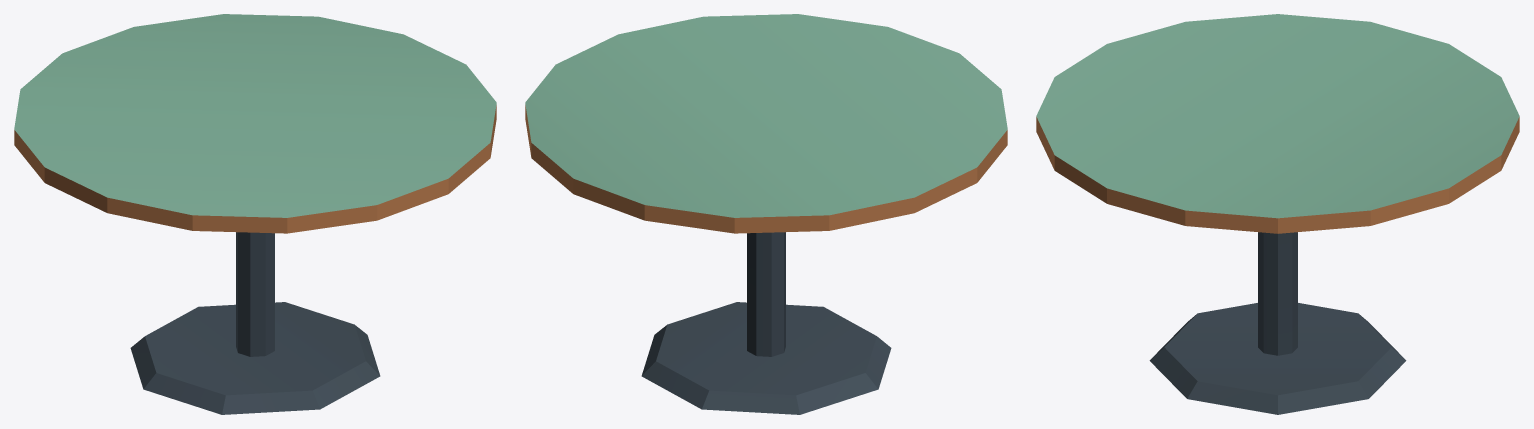
File: SM_MesaCaf.fbx
3 views of the same model, side by side, from view 1: azimuth 30°, elevation 25°; view 2: azimuth 150°, elevation 25°; view 3: azimuth 270°, elevation 25° (orthographic).
Parts seen in each view (by area): view 1: Cylinder, Cylinder.001; view 2: Cylinder, Cylinder.001; view 3: Cylinder, Cylinder.001.
Boxes of the visible parts, bbox=[...] form: Cylinder: bbox=[14, 14, 496, 233]; Cylinder.001: bbox=[130, 232, 380, 414]; Cylinder: bbox=[525, 14, 1007, 233]; Cylinder.001: bbox=[641, 232, 891, 414]; Cylinder: bbox=[1036, 14, 1519, 233]; Cylinder.001: bbox=[1149, 232, 1406, 414].
Bounding box in the file's own units: 133 × 74.17 × 133.
